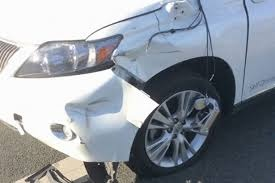Dent: (109, 1, 213, 80), (64, 72, 149, 139)
